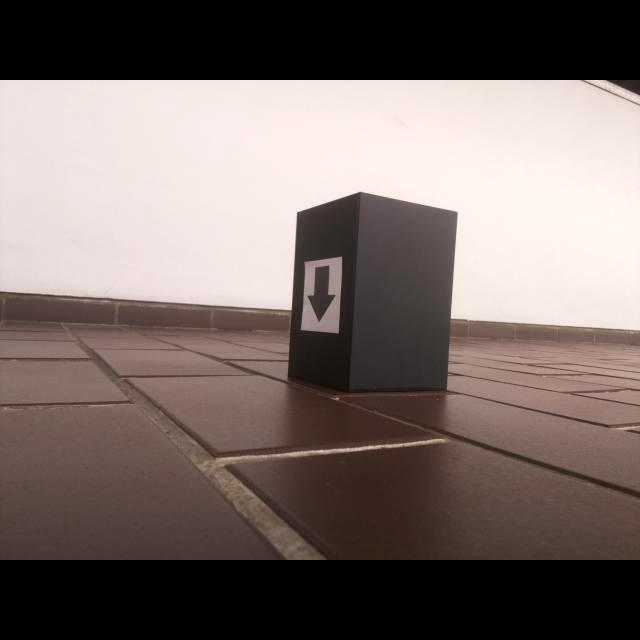DOWN: (305, 265, 336, 323)
